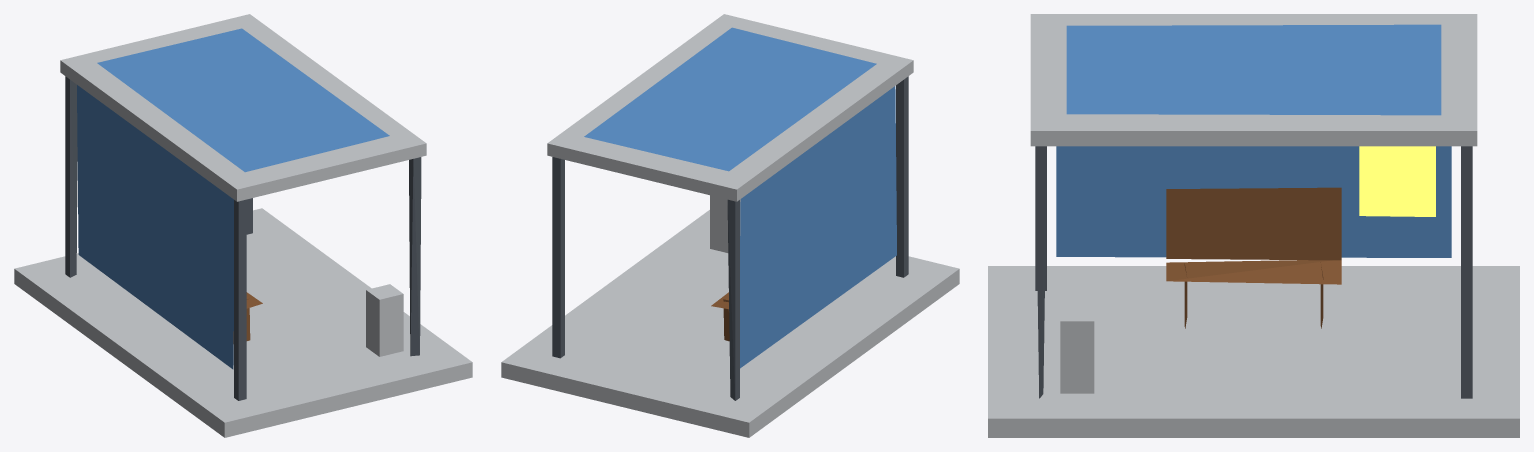
The model's file is shelter_small.glb.
The picture shows the model from 3 angles, left to right: view 1: azimuth 30°, elevation 25°; view 2: azimuth 150°, elevation 25°; view 3: azimuth 270°, elevation 25°; orthographic projection. The views are drawn at different scales.
Visible parts, largest first — view 1: shelter_small; view 2: shelter_small; view 3: shelter_small.
Boxes of the visible parts, <box> form: shelter_small: <box>14,14,472,437</box>; shelter_small: <box>501,14,959,437</box>; shelter_small: <box>988,14,1519,437</box>.
Bounding box in the file's own units: 0.2448 × 0.2182 × 0.36.
